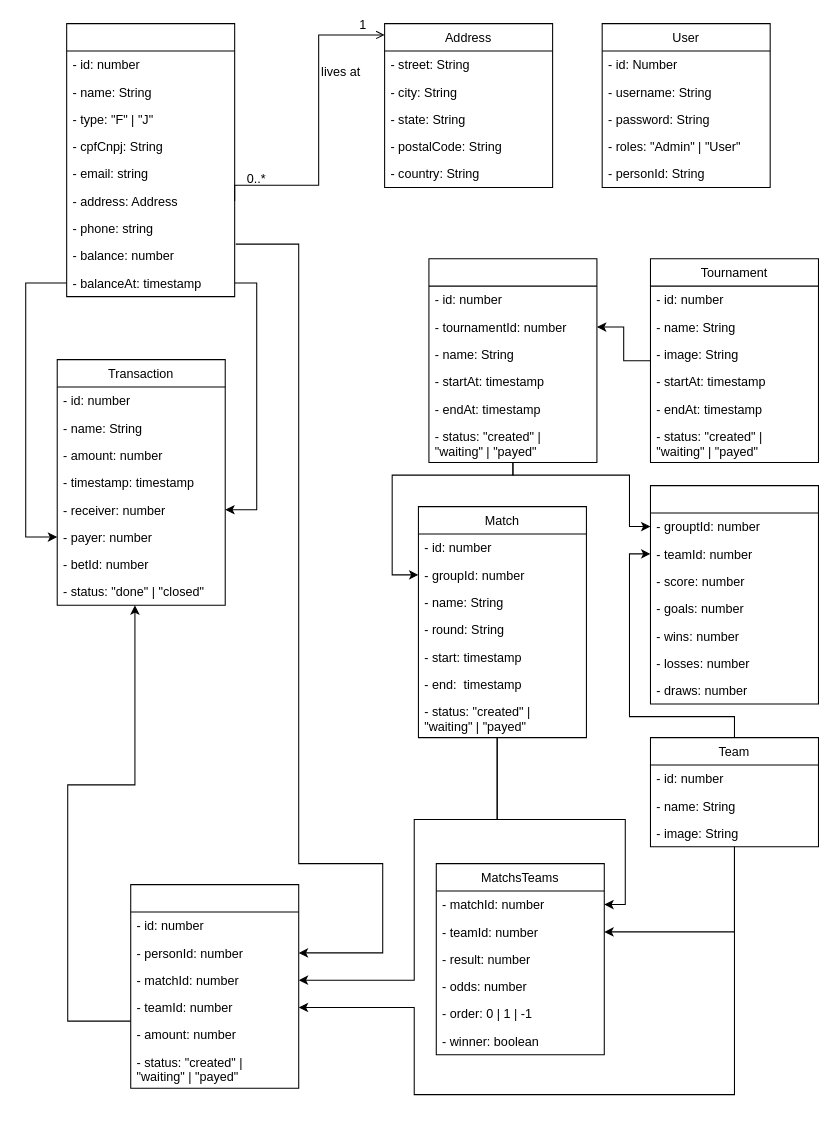
Some shapes in this 837 by 1121 pixel diagram are drawn without their labels. The shapes that lost their labels are listed below. From the top down, each one's box as (x1, y1, x2, y2) in pixels, then its label:
(66, 23, 235, 297): Person
(428, 258, 597, 463): Group
(649, 485, 818, 704): GroupsTeams
(130, 884, 299, 1088): Bet
